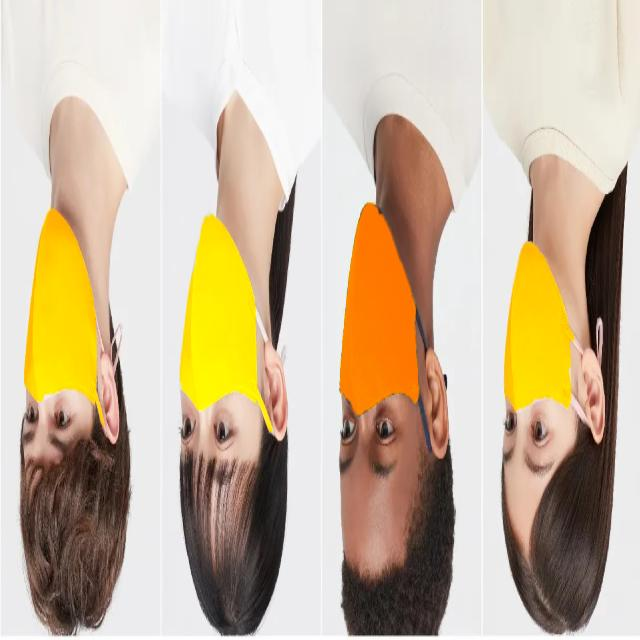mask: (498, 223, 581, 586), (178, 210, 277, 435), (23, 202, 118, 432), (338, 197, 431, 421)
